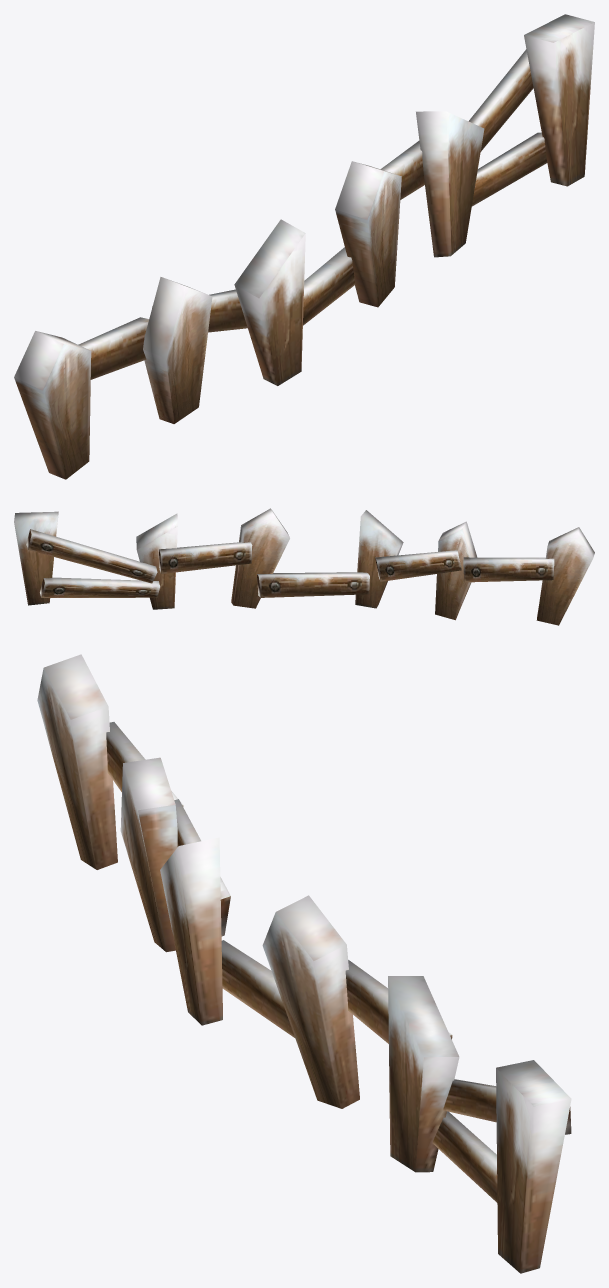
Rendered from SM_Enclosure_11.fbx.
3 renders of one model, top to bottom at view 1: azimuth 30°, elevation 25°; view 2: azimuth 150°, elevation 25°; view 3: azimuth 270°, elevation 25°, orthographic. The views are drawn at different scales.
Parts seen in each view (by area): view 1: SM_Enclosure_11; view 2: SM_Enclosure_11; view 3: SM_Enclosure_11.
Part boxes in pixels (x1,y1,x2,y2): SM_Enclosure_11: [14, 14, 594, 479]; SM_Enclosure_11: [14, 508, 594, 625]; SM_Enclosure_11: [37, 654, 571, 1273].
Bounding box in the file's own units: 5.44 × 1.07 × 2.71.
